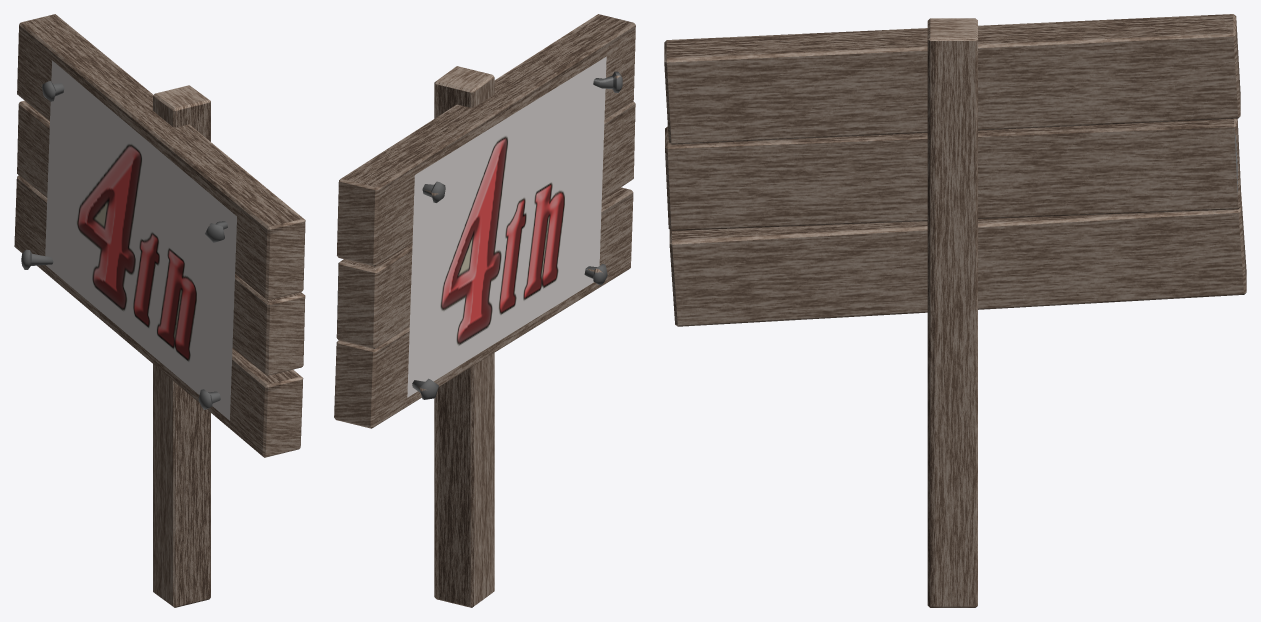
File: Gs_signboard.fbx
The picture shows the model from 3 angles, left to right: view 1: azimuth 30°, elevation 25°; view 2: azimuth 150°, elevation 25°; view 3: azimuth 270°, elevation 25°; orthographic projection. The views are drawn at different scales.
Parts seen in each view (by area): view 1: paper, pCube6, pillar, pCube4, pCube5, pSphere3; view 2: paper, pCube6, pillar, pCube4, pCube5; view 3: pCube6, pCube4, pCube5, pillar.
Boxes of the visible parts, x1=… form: paper: x1=45, y1=60, x2=236, y2=420; pCube6: x1=17, y1=14, x2=305, y2=300; pillar: x1=153, y1=85, x2=210, y2=607; pCube4: x1=14, y1=175, x2=303, y2=457; pCube5: x1=17, y1=100, x2=305, y2=375; pSphere3: x1=21, y1=249, x2=53, y2=269; paper: x1=407, y1=56, x2=606, y2=397; pCube6: x1=337, y1=14, x2=635, y2=266; pillar: x1=434, y1=66, x2=494, y2=607; pCube4: x1=334, y1=187, x2=633, y2=428; pCube5: x1=336, y1=101, x2=635, y2=348; pCube6: x1=664, y1=14, x2=1240, y2=144; pCube4: x1=669, y1=192, x2=1246, y2=326; pCube5: x1=665, y1=118, x2=1240, y2=230; pillar: x1=927, y1=18, x2=977, y2=607.
Bounding box in the file's own units: 17.9 × 100 × 92.55.
